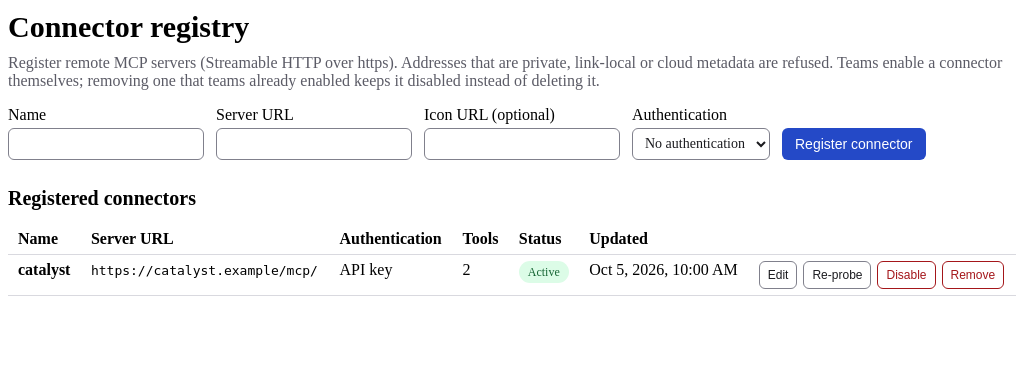
Scenario: Re-probe (KOBE-430) › shows the failure reason in Kobe's words (a 502 from the remote)
Step 1. Click the button named "Re-probe catalyst" → (838, 274), box [804,260,872,288]
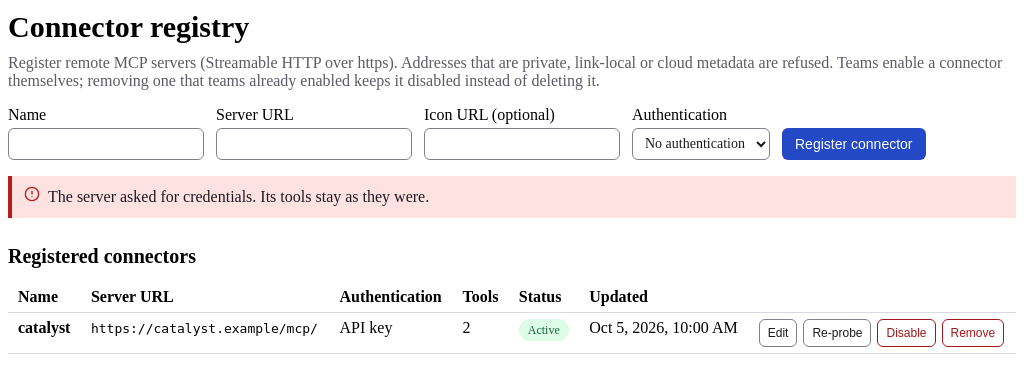
Expected: the message shows "asked for credentials. Its tools stay as they were.", [48,188,429,204]
